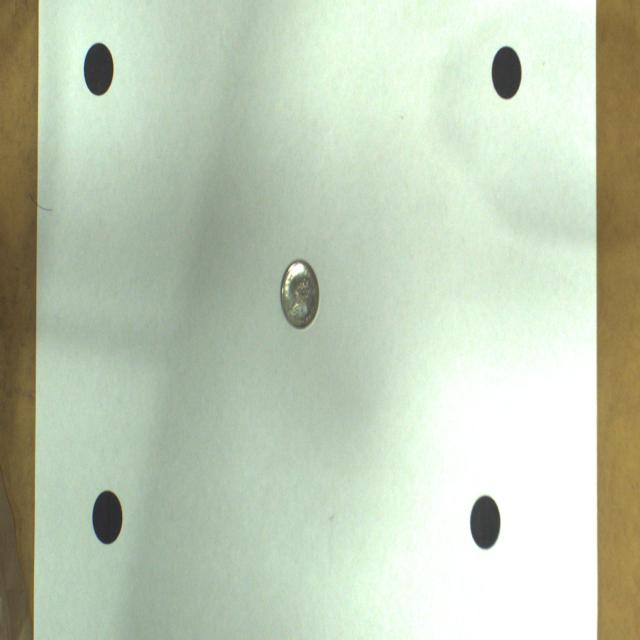space: (470, 496, 501, 549), (84, 42, 114, 96), (92, 491, 122, 544), (491, 47, 521, 98)
tail1bath: (281, 260, 319, 329)
